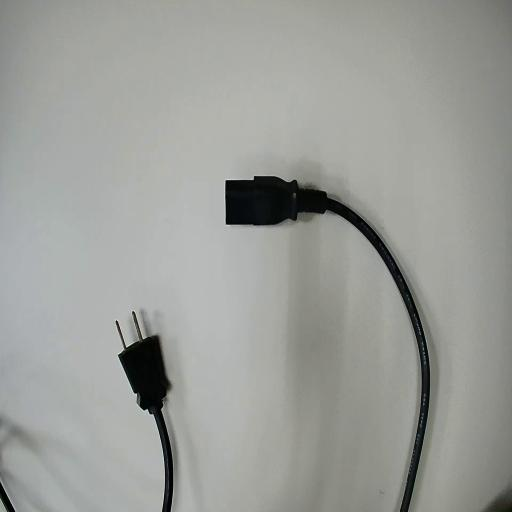wire: (226, 177, 429, 511), (120, 336, 172, 511)
